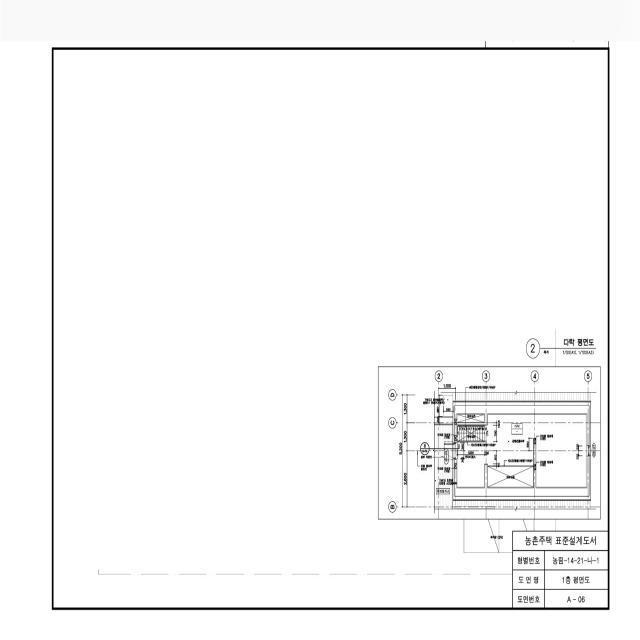space_other: (457, 414, 587, 488), (487, 466, 533, 488), (457, 413, 485, 423)
space_staircase: (457, 425, 487, 443)
